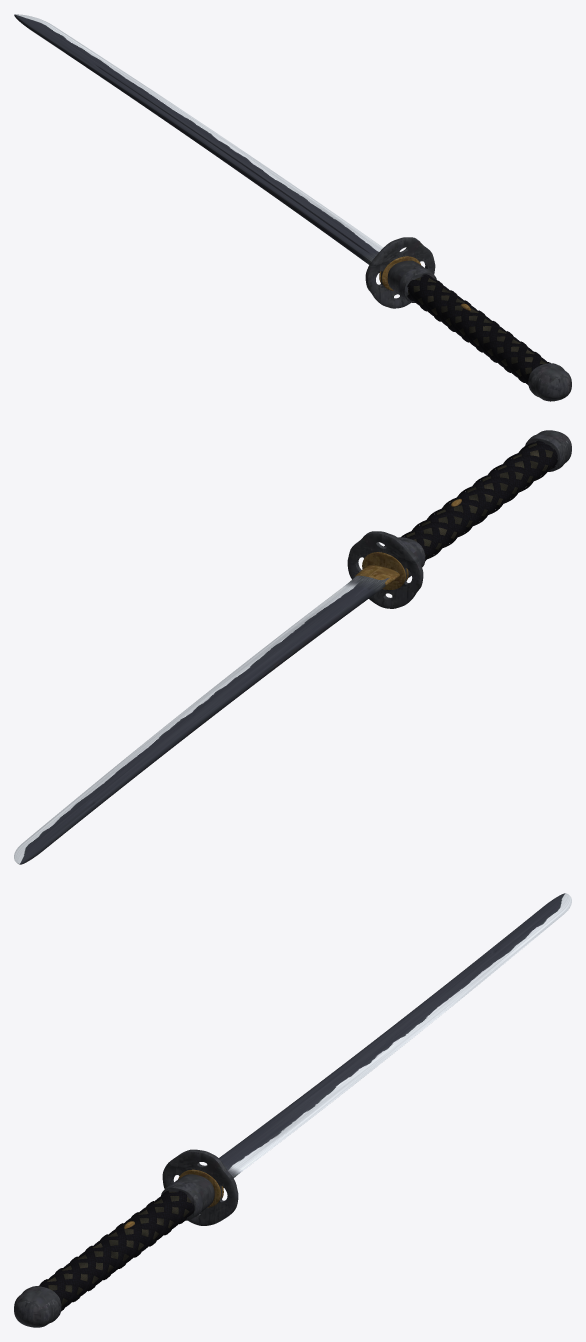
Rendered from katana.glb.
3 renders of one model, top to bottom at view 1: azimuth 30°, elevation 25°; view 2: azimuth 150°, elevation 25°; view 3: azimuth 330°, elevation 25°, orthographic. The views are drawn at different scales.
Visible parts, largest first — view 1: hoja, ito, tsuba, kashira, tsuka, fuchi; view 2: hoja, ito, tsuba, tsuka, kashira, seppa_b; view 3: hoja, ito, tsuba, kashira, tsuka, fuchi.
Boxes of the visible parts, bbox=[...] form: hoja: bbox=[14, 14, 383, 264]; ito: bbox=[407, 274, 550, 385]; tsuba: bbox=[365, 237, 435, 308]; kashira: bbox=[528, 363, 571, 401]; tsuka: bbox=[408, 277, 546, 376]; fuchi: bbox=[387, 260, 436, 302]; hoja: bbox=[14, 571, 397, 864]; ito: bbox=[401, 440, 557, 561]; tsuba: bbox=[347, 531, 423, 608]; tsuka: bbox=[406, 443, 552, 557]; kashira: bbox=[525, 430, 571, 471]; seppa_b: bbox=[362, 552, 405, 589]; hoja: bbox=[219, 893, 571, 1178]; ito: bbox=[38, 1190, 194, 1311]; tsuba: bbox=[162, 1149, 238, 1225]; kashira: bbox=[14, 1286, 61, 1327]; tsuka: bbox=[47, 1191, 191, 1305]; fuchi: bbox=[161, 1174, 214, 1220].
Bounding box in the file's own units: 0.0788 × 0.0755 × 1.05.
5 materials, 5 textured.
